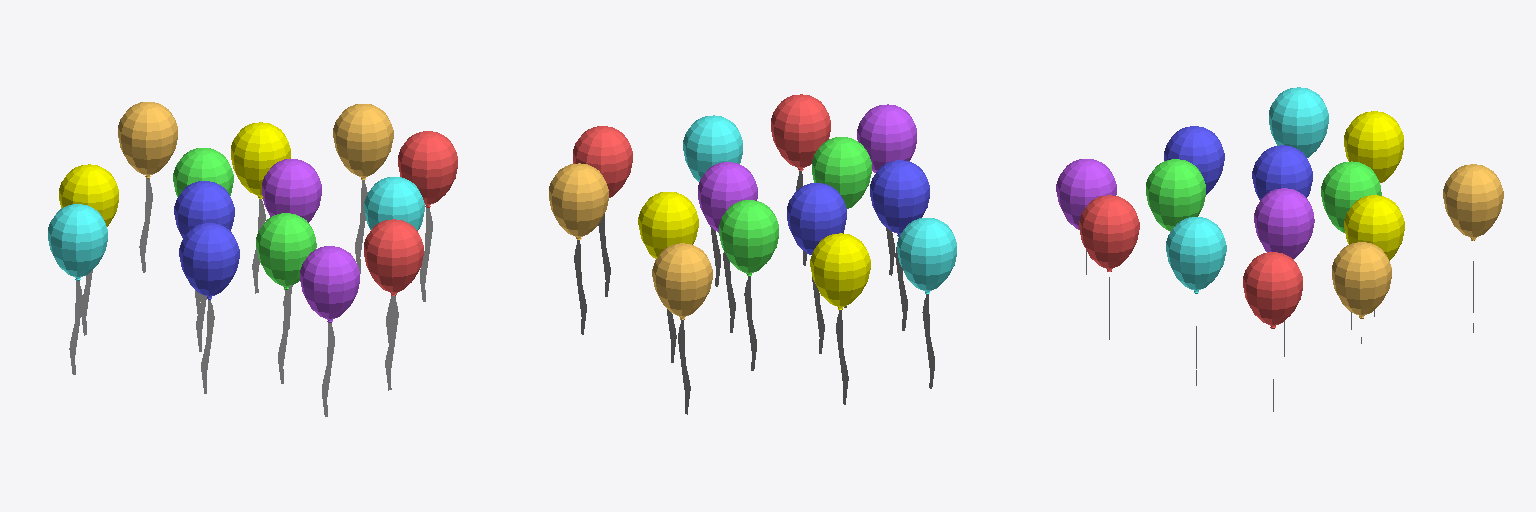
The model's file is party.obj.
3 views of the same model, side by side, from view 1: azimuth 30°, elevation 25°; view 2: azimuth 150°, elevation 25°; view 3: azimuth 270°, elevation 25° (orthographic).
Visible parts, largest first — view 1: Mesh11 Balloon6 Model, Mesh21 Balloon11 Model, Mesh3 Balloon2 Model, Mesh19 Balloon10 Model, Mesh7 Balloon4 Model, Mesh1 Balloon1 Model, Mesh17 Balloon9 Model, Mesh25 Balloon13 Model, Mesh9 Balloon5 Model, Mesh13 Balloon7 Model, Mesh27 Balloon14 Model, Mesh5 Balloon3 Model (+9 smaller); view 2: Mesh15 Balloon8 Model, Mesh19 Balloon10 Model, Mesh21 Balloon11 Model, Mesh3 Balloon2 Model, Mesh23 Balloon12 Model, Mesh11 Balloon6 Model, Mesh7 Balloon4 Model, Mesh5 Balloon3 Model, Mesh17 Balloon9 Model, Mesh13 Balloon7 Model, Mesh1 Balloon1 Model, Mesh27 Balloon14 Model (+2 smaller); view 3: Mesh7 Balloon4 Model, Mesh21 Balloon11 Model, Mesh19 Balloon10 Model, Mesh27 Balloon14 Model, Mesh25 Balloon13 Model, Mesh9 Balloon5 Model, Mesh17 Balloon9 Model, Mesh3 Balloon2 Model, Mesh15 Balloon8 Model, Mesh13 Balloon7 Model, Mesh1 Balloon1 Model, Mesh23 Balloon12 Model (+2 smaller).
Boxes of the visible parts, box(x1,y1,x2,y2) form: Mesh11 Balloon6 Model: box(179, 223, 239, 299); Mesh21 Balloon11 Model: box(333, 104, 393, 179); Mesh3 Balloon2 Model: box(48, 204, 107, 280); Mesh19 Balloon10 Model: box(118, 102, 177, 178); Mesh7 Balloon4 Model: box(364, 219, 423, 295); Mesh1 Balloon1 Model: box(300, 246, 359, 322); Mesh17 Balloon9 Model: box(256, 213, 316, 289); Mesh25 Balloon13 Model: box(398, 131, 457, 207); Mesh9 Balloon5 Model: box(262, 159, 321, 222); Mesh13 Balloon7 Model: box(231, 122, 290, 198); Mesh27 Balloon14 Model: box(364, 177, 424, 230); Mesh5 Balloon3 Model: box(174, 181, 234, 238); Mesh15 Balloon8 Model: box(810, 233, 870, 309); Mesh19 Balloon10 Model: box(652, 243, 712, 319); Mesh21 Balloon11 Model: box(549, 163, 608, 239); Mesh3 Balloon2 Model: box(897, 218, 956, 294); Mesh23 Balloon12 Model: box(719, 200, 778, 276); Mesh11 Balloon6 Model: box(870, 160, 929, 236); Mesh7 Balloon4 Model: box(771, 94, 830, 170); Mesh5 Balloon3 Model: box(787, 183, 846, 254); Mesh17 Balloon9 Model: box(812, 137, 871, 208); Mesh13 Balloon7 Model: box(638, 192, 698, 258); Mesh1 Balloon1 Model: box(857, 104, 916, 172); Mesh27 Balloon14 Model: box(683, 115, 742, 181); Mesh7 Balloon4 Model: box(1079, 195, 1139, 271); Mesh21 Balloon11 Model: box(1332, 242, 1391, 318); Mesh19 Balloon10 Model: box(1443, 164, 1503, 240); Mesh27 Balloon14 Model: box(1166, 217, 1226, 293); Mesh25 Balloon13 Model: box(1243, 252, 1302, 328); Mesh9 Balloon5 Model: box(1254, 188, 1314, 258); Mesh17 Balloon9 Model: box(1146, 159, 1205, 231); Mesh3 Balloon2 Model: box(1269, 87, 1328, 157); Mesh15 Balloon8 Model: box(1344, 111, 1403, 182); Mesh13 Balloon7 Model: box(1344, 195, 1404, 260); Mesh1 Balloon1 Model: box(1056, 159, 1116, 229); Mesh23 Balloon12 Model: box(1321, 161, 1381, 232).
Bounding box in the file's own units: 127 × 52.34 × 127.